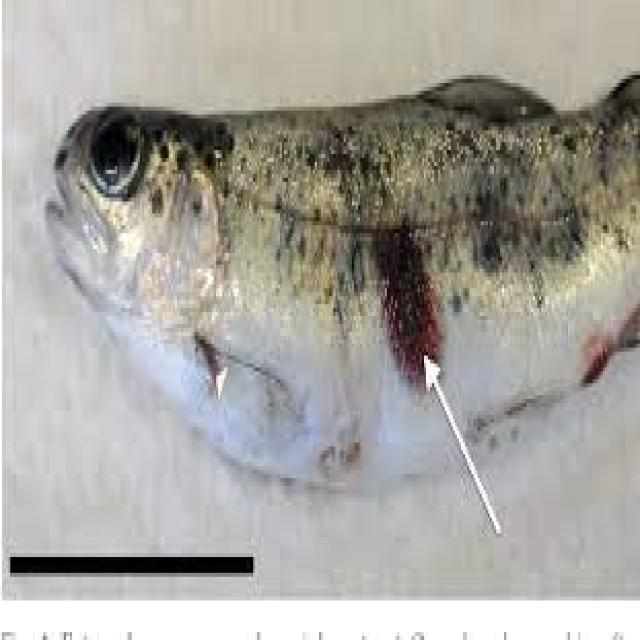EUS Disease: (48, 63, 640, 501), (324, 129, 520, 441), (569, 298, 620, 398)
